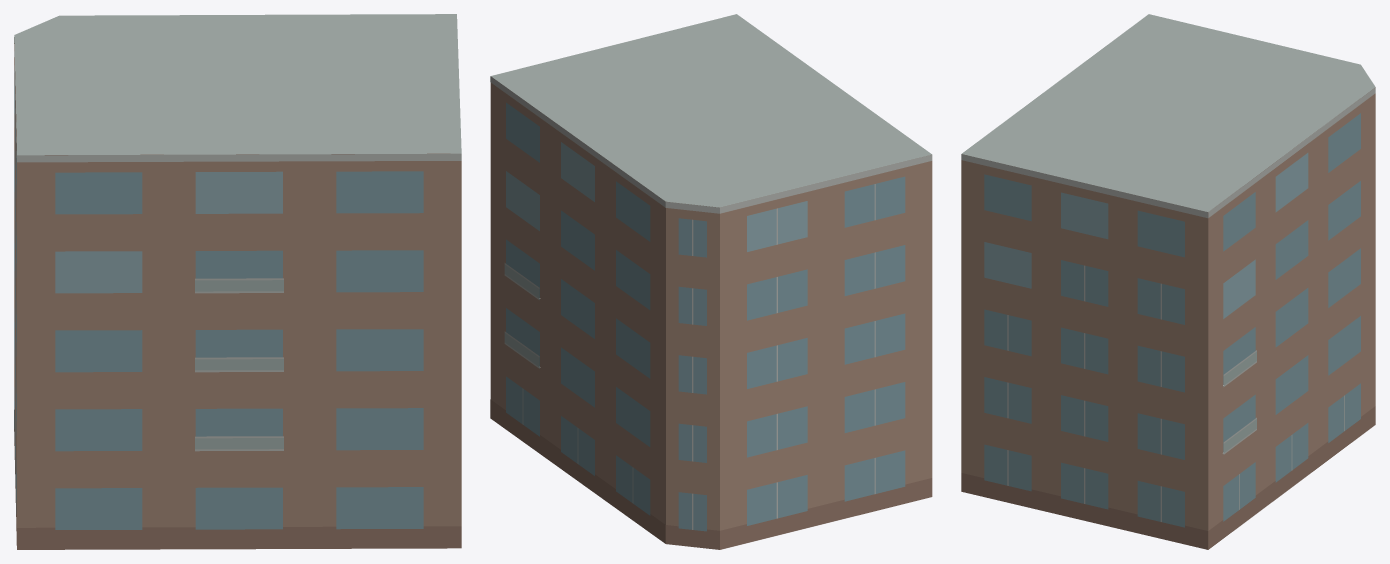
File: survey-upis-32886235.glb
3 renders of one model, left to right at view 1: azimuth 30°, elevation 25°; view 2: azimuth 150°, elevation 25°; view 3: azimuth 270°, elevation 25°, orthographic. The views are drawn at different scales.
Parts seen in each view (by area): view 1: survey-upis-32886235.tmp; view 2: survey-upis-32886235.tmp; view 3: survey-upis-32886235.tmp.
Boxes of the visible parts, x1,y1,x2,y2 form: survey-upis-32886235.tmp: (14,14,461,549); survey-upis-32886235.tmp: (490,14,932,549); survey-upis-32886235.tmp: (961,14,1375,549).
Size of the model in its own units: 16.87 by 13.4 by 14.91.
